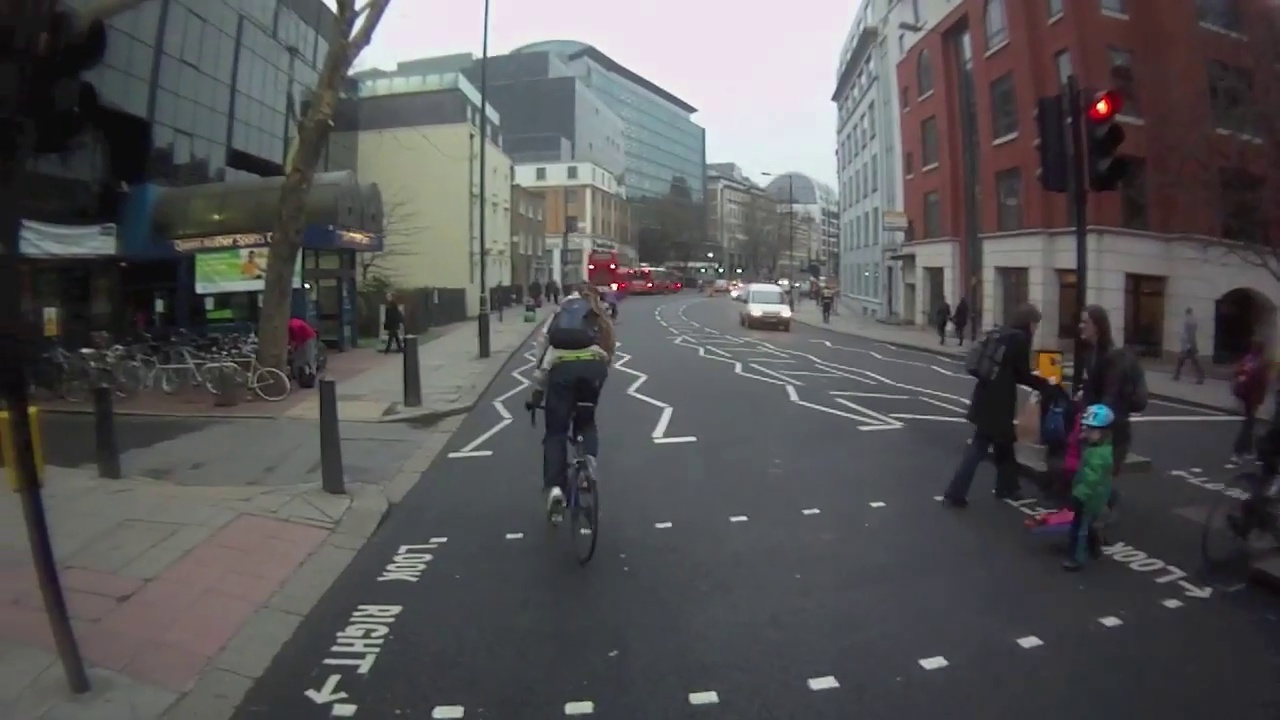cyclist_back: (523, 276, 615, 564)
